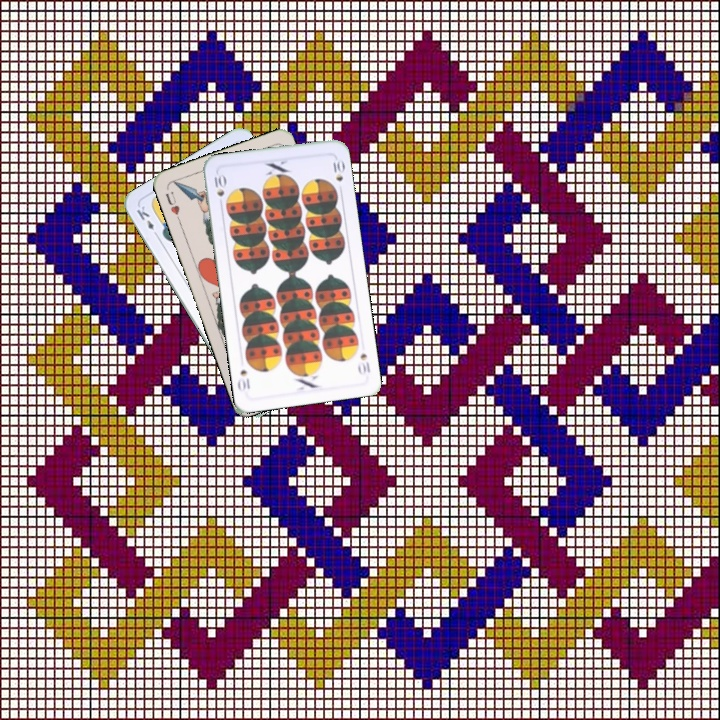EK: (133, 202, 161, 240)
HU: (161, 187, 183, 224)
S10: (210, 170, 228, 199), (354, 349, 372, 377)
